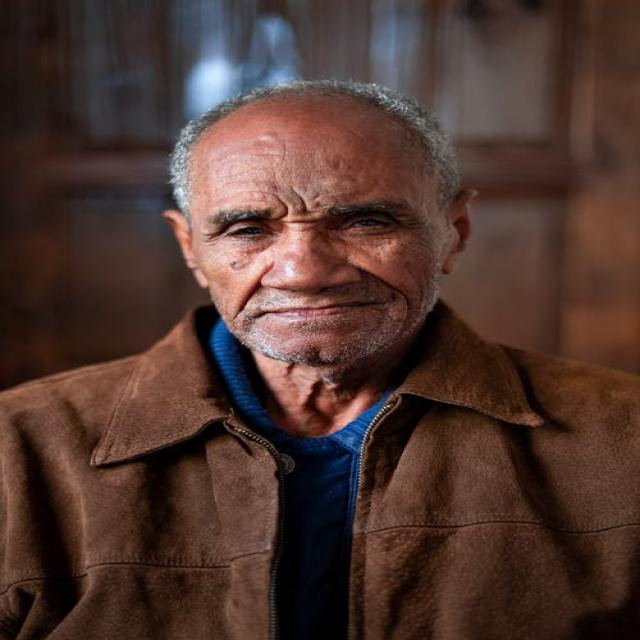Wrinkles: (292, 186, 314, 213), (215, 191, 250, 203), (273, 193, 289, 219), (291, 220, 318, 223), (250, 191, 264, 192)
